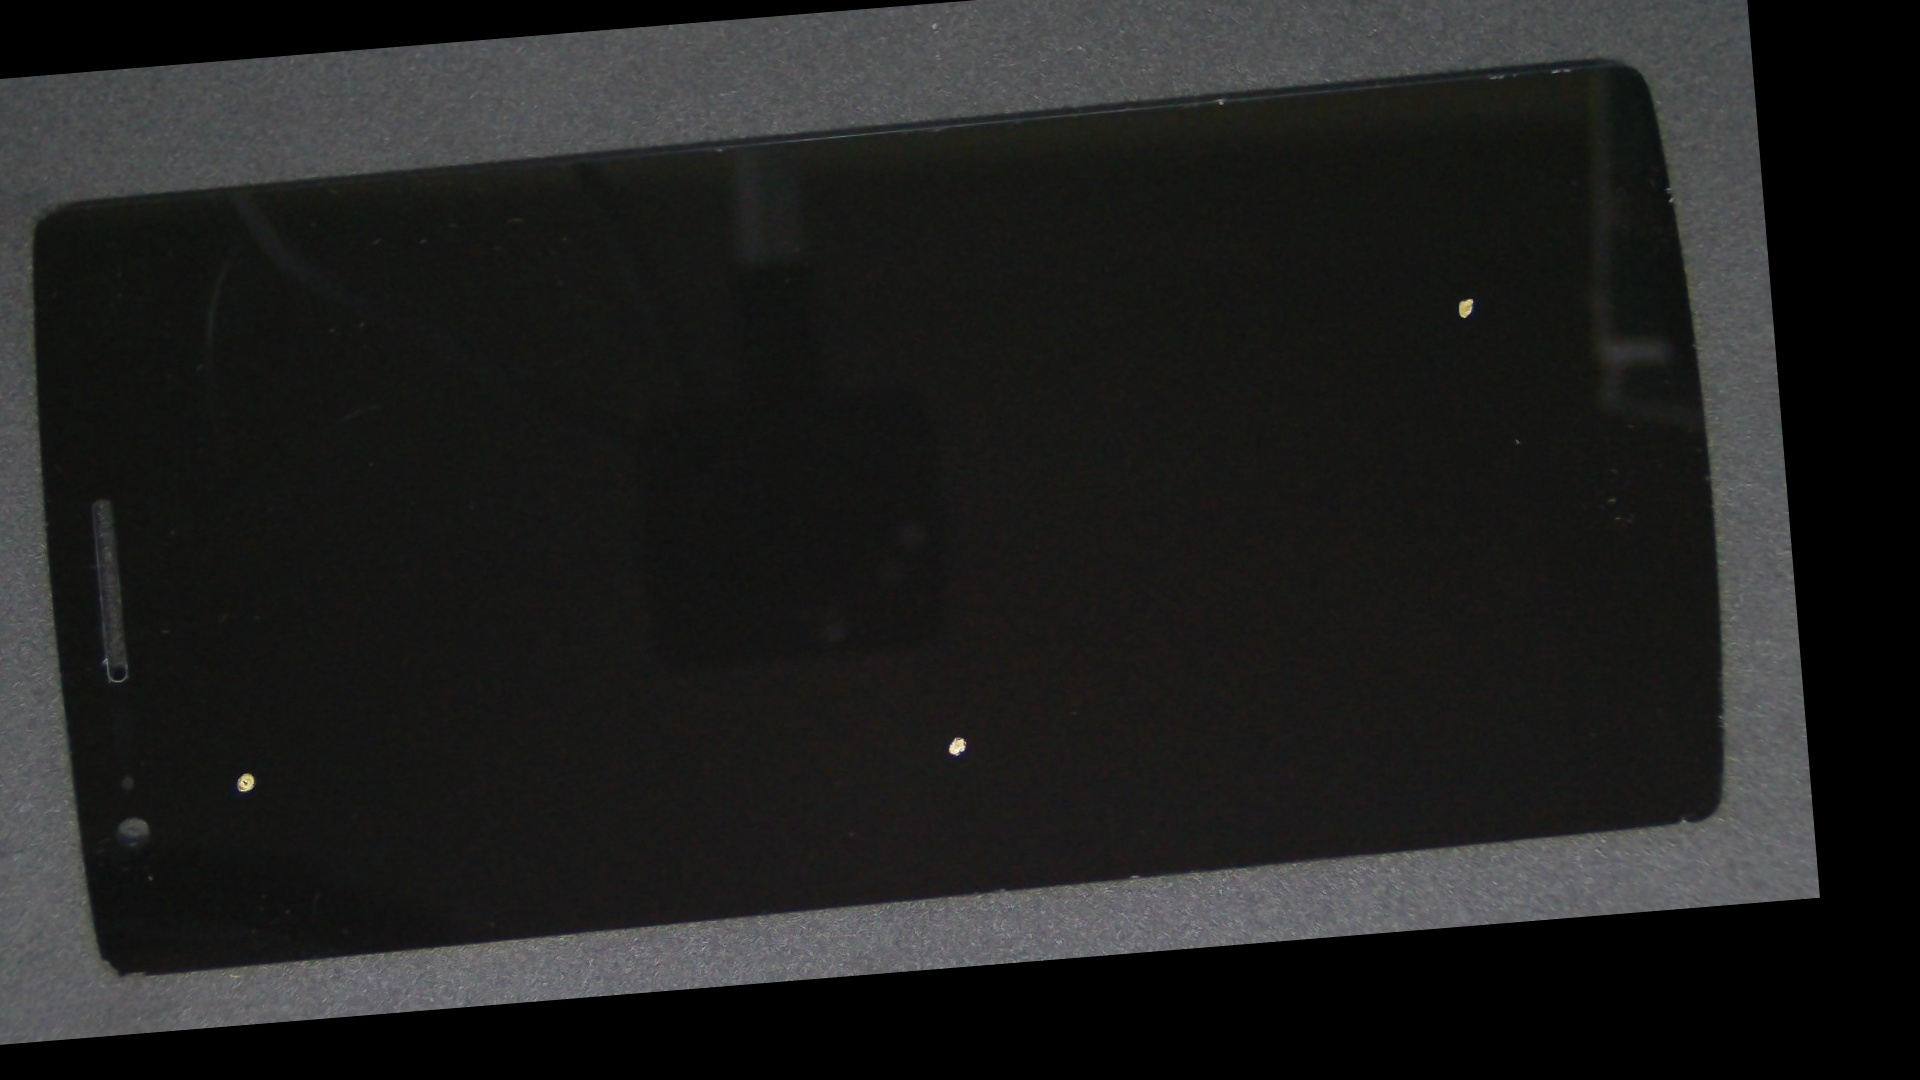oil: (433, 331, 1462, 1006), (688, 105, 1783, 527), (79, 404, 396, 1034)
